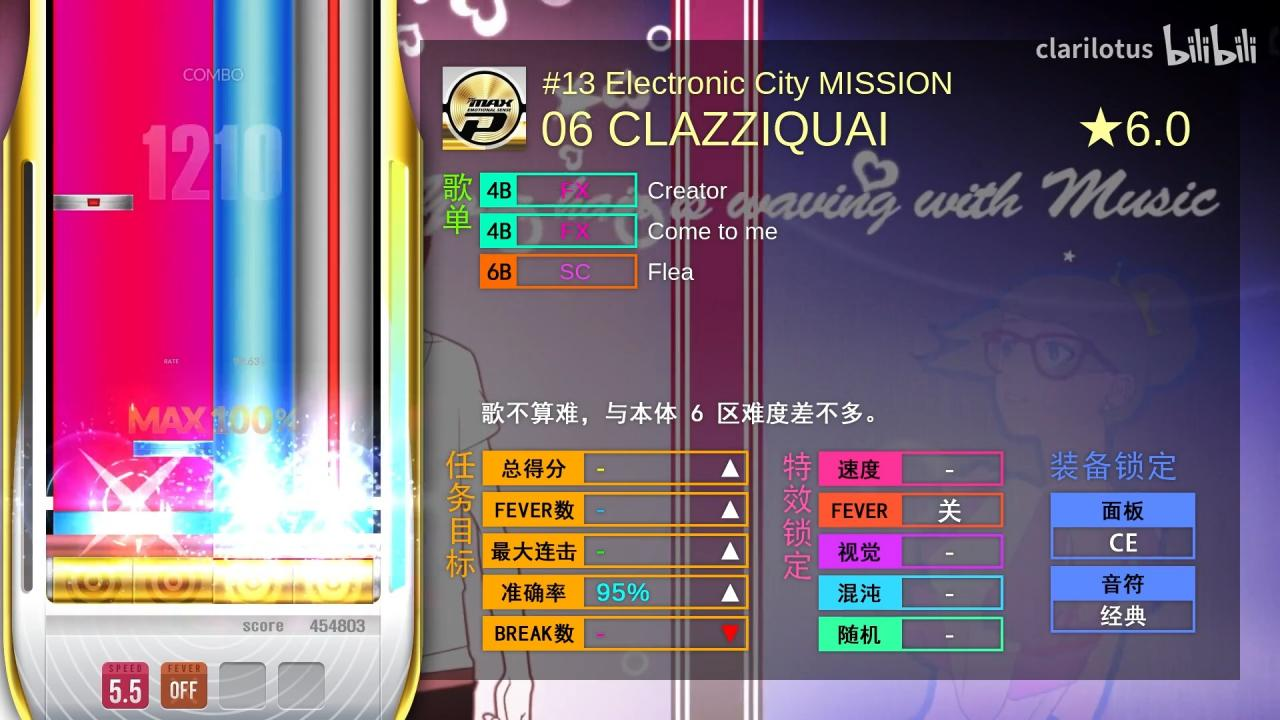note: (133, 440, 214, 457), (53, 194, 134, 210)
